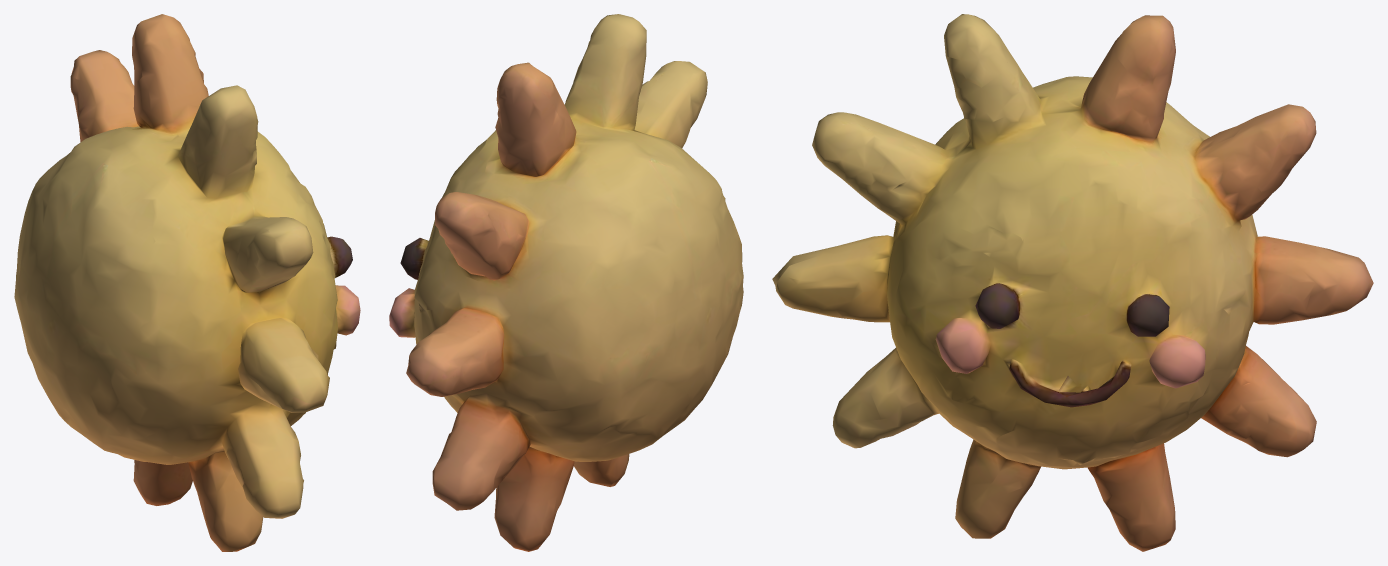
The model's file is sun.glb.
3 renders of one model, left to right at view 1: azimuth 30°, elevation 25°; view 2: azimuth 150°, elevation 25°; view 3: azimuth 270°, elevation 25°, orthographic. The views are drawn at different scales.
Visible parts, largest first — view 1: tripo_node_c6c16de4-8c69-4c55-b307-6eea473b8a24; view 2: tripo_node_c6c16de4-8c69-4c55-b307-6eea473b8a24; view 3: tripo_node_c6c16de4-8c69-4c55-b307-6eea473b8a24.
Part boxes in pixels (x1,y1,x2,y2): tripo_node_c6c16de4-8c69-4c55-b307-6eea473b8a24: (14,14,360,551); tripo_node_c6c16de4-8c69-4c55-b307-6eea473b8a24: (389,14,743,551); tripo_node_c6c16de4-8c69-4c55-b307-6eea473b8a24: (772,14,1373,551).
Size of the model in its own units: 0.5673 by 0.9709 by 1.
1 material, 1 textured.
